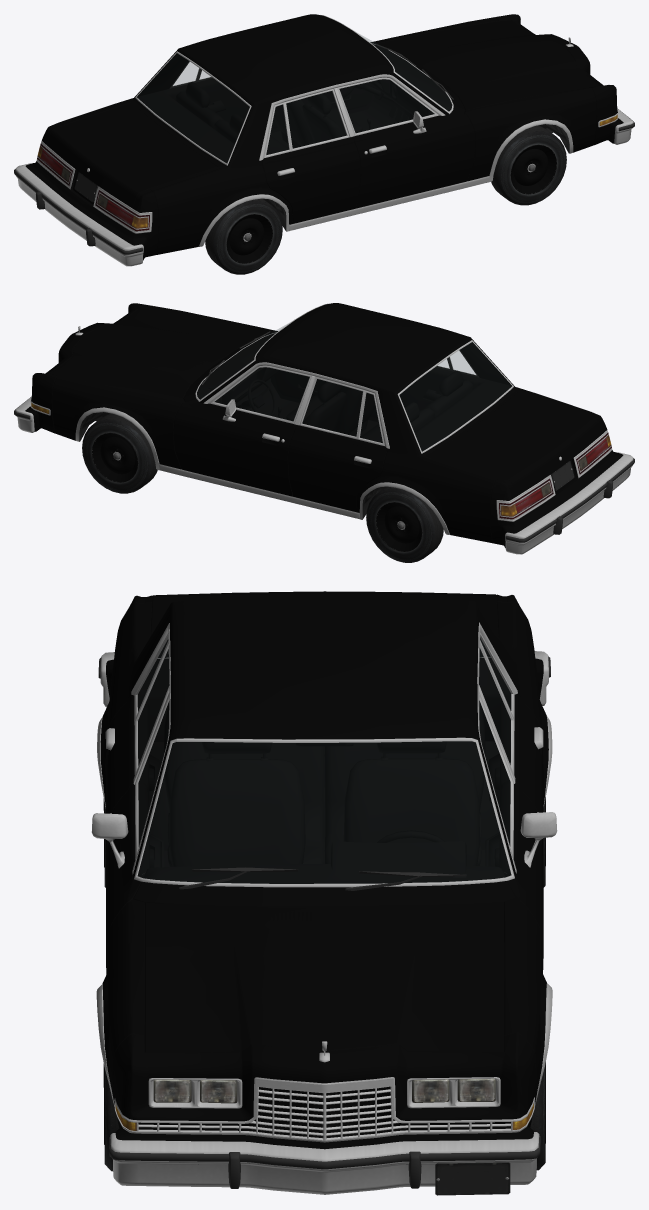
3 views of the same model, one above another, from view 1: azimuth 30°, elevation 25°; view 2: azimuth 150°, elevation 25°; view 3: azimuth 270°, elevation 25° (orthographic). The views are drawn at different scales.
Visible parts, largest first — view 1: Body_bodycolour_0, Hood_bodycolour_0, Trunk_door_bodycolour_0, Door_FR_bodycolour_0, Door_RR_bodycolour_0, Interior_interior_0, Seats_interior_0, Wheel_FR_RIMSTOCK_02_1_0, Wheel_RR_RIMSTOCK_02_1_0, Body_chrome_UCB_BOTTOM_0, Bumper_Rear_UCB_BOTTOM_0, Rear_plate_bodycolour_0 (+13 smaller); view 2: Body_bodycolour_0, Hood_bodycolour_0, Trunk_door_bodycolour_0, Door_FL_bodycolour_0, Door_RL_bodycolour_0, Seats_interior_0, Wheel_FL_RIMSTOCK_02_1_0, Interior_interior_0, Wheel_RL_RIMSTOCK_02_1_0, Body_chrome_UCB_BOTTOM_0, Bumper_Rear_UCB_BOTTOM_0, Rear_plate_bodycolour_0 (+13 smaller); view 3: Body_bodycolour_0, Hood_bodycolour_0, Seats_interior_0, Front_plate_bodycolour_0, Bumper_Front_UCB_BOTTOM_0, Grill_UCB_BOTTOM_0, Dashboard_interior_0, Interior_interior_0, Windows_trim_UCB_BOTTOM_0, Body_chrome_UCB_BOTTOM_0, Headlight_glass_Riverside88_lights_glass_0, Trunk_door_bodycolour_0 (+16 smaller).
Boxes of the visible parts, x1,y1,x2,y2 form: Body_bodycolour_0: [59, 14, 596, 254]; Hood_bodycolour_0: [376, 20, 599, 109]; Trunk_door_bodycolour_0: [47, 103, 217, 208]; Door_FR_bodycolour_0: [353, 110, 475, 208]; Door_RR_bodycolour_0: [262, 137, 360, 223]; Interior_interior_0: [137, 53, 451, 163]; Seats_interior_0: [175, 82, 362, 155]; Wheel_FR_RIMSTOCK_02_1_0: [491, 125, 566, 205]; Wheel_RR_RIMSTOCK_02_1_0: [205, 198, 282, 274]; Body_chrome_UCB_BOTTOM_0: [199, 74, 573, 246]; Bumper_Rear_UCB_BOTTOM_0: [14, 163, 143, 266]; Rear_plate_bodycolour_0: [25, 122, 158, 260]; Body_bodycolour_0: [52, 303, 589, 543]; Hood_bodycolour_0: [49, 309, 272, 398]; Trunk_door_bodycolour_0: [432, 392, 601, 496]; Door_FL_bodycolour_0: [173, 398, 295, 496]; Door_RL_bodycolour_0: [288, 425, 386, 511]; Seats_interior_0: [286, 370, 473, 443]; Wheel_FL_RIMSTOCK_02_1_0: [82, 413, 157, 493]; Interior_interior_0: [198, 342, 511, 451]; Wheel_RL_RIMSTOCK_02_1_0: [366, 486, 443, 562]; Body_chrome_UCB_BOTTOM_0: [75, 362, 449, 534]; Bumper_Rear_UCB_BOTTOM_0: [505, 452, 634, 554]; Rear_plate_bodycolour_0: [490, 411, 623, 547]; Body_bodycolour_0: [100, 596, 548, 1104]; Hood_bodycolour_0: [144, 902, 504, 1052]; Seats_interior_0: [163, 700, 485, 866]; Front_plate_bodycolour_0: [113, 1033, 536, 1149]; Bumper_Front_UCB_BOTTOM_0: [109, 1132, 540, 1195]; Grill_UCB_BOTTOM_0: [114, 1077, 534, 1142]; Dashboard_interior_0: [143, 841, 505, 883]; Interior_interior_0: [137, 657, 511, 877]; Windows_trim_UCB_BOTTOM_0: [134, 657, 514, 890]; Body_chrome_UCB_BOTTOM_0: [96, 622, 552, 1107]; Headlight_glass_Riverside88_lights_glass_0: [153, 1078, 495, 1103]; Trunk_door_bodycolour_0: [150, 591, 498, 657].
Bounding box in the file's own units: 194 × 55.98 × 73.82.
6 materials, 4 textured.
